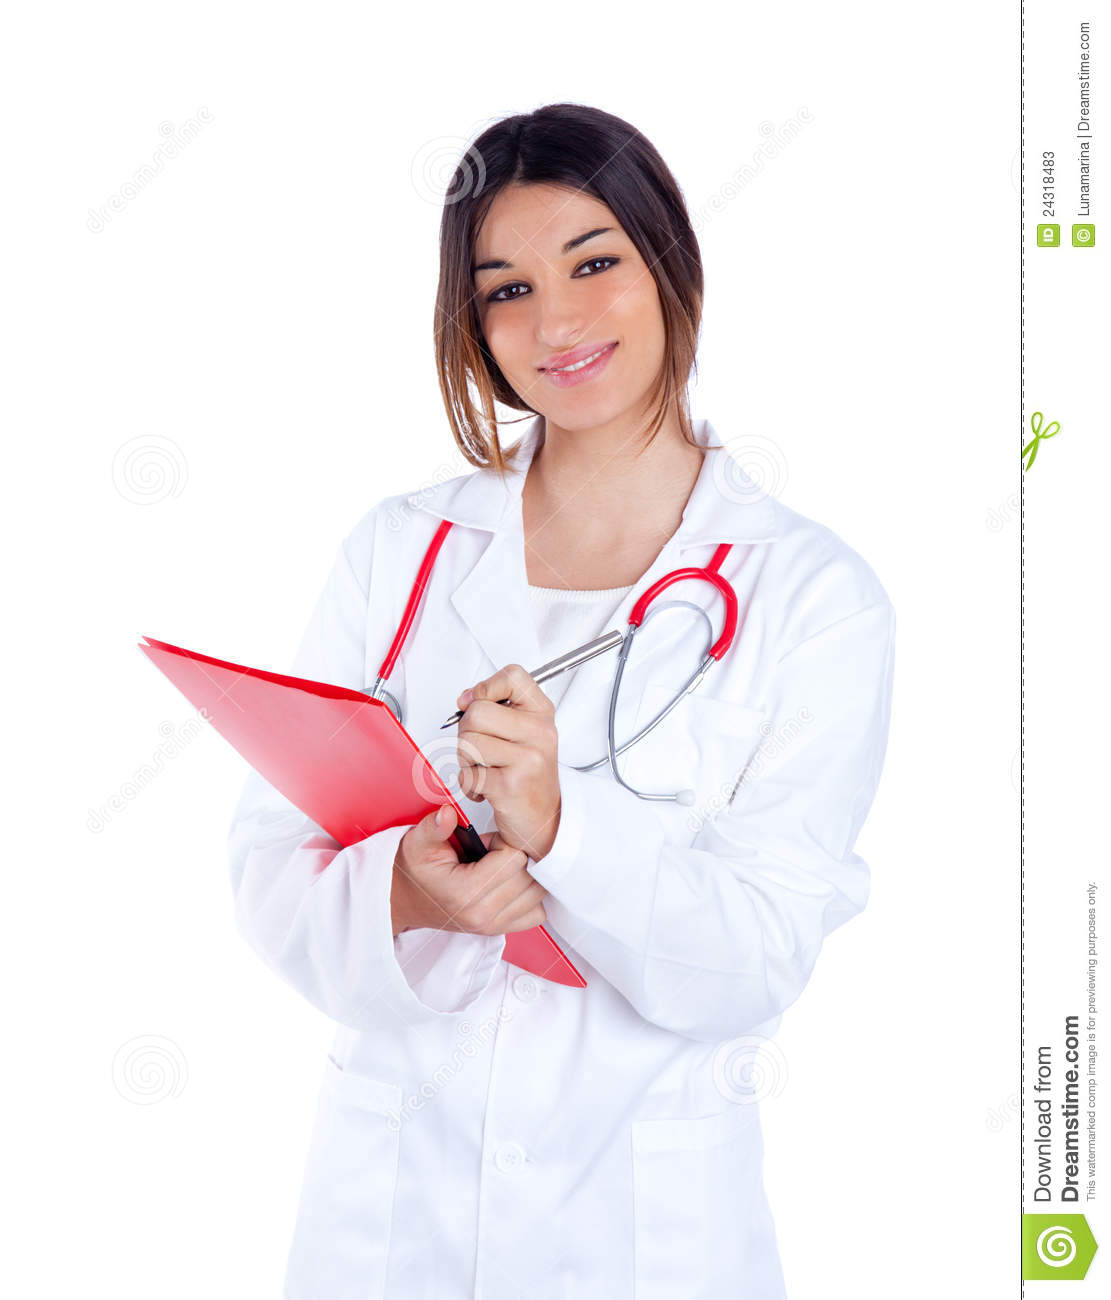red folder: (133, 620, 630, 1003)
